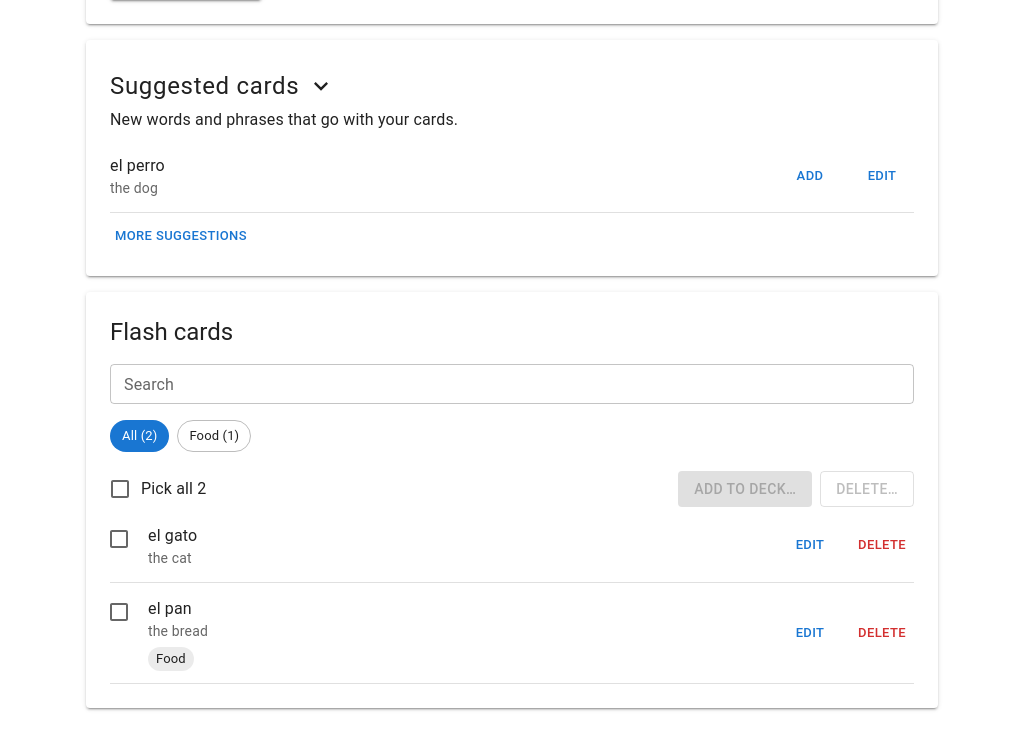
Test: suggested cards › for a tag › suggests cards for the picked tag and adds them with it
(page scrolled)
Expected: the list named "Suggested cards" is shown, [110,140,914,213]
Click the button "Food (1)" at (214, 436), box [177,420,251,452]
(page scrolled)
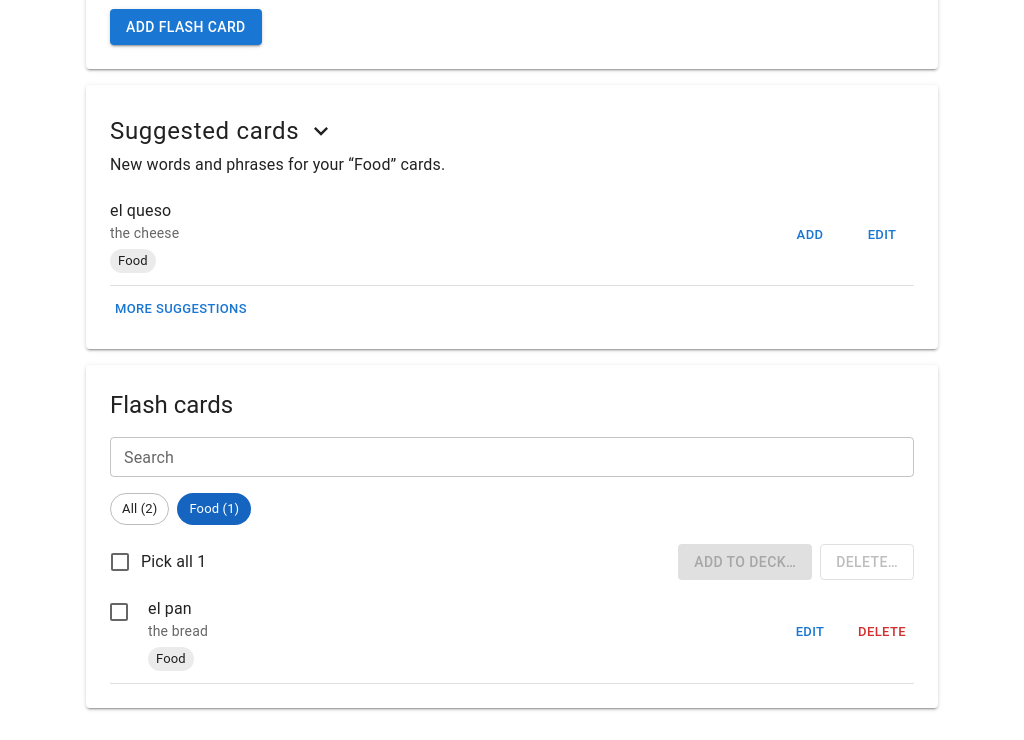
Result: the list named "Suggested cards" shows "el queso" at [110,201,171,220]
Result: the text "New words and phrases for your “Food” cards." is shown at [110,155,445,174]
Click the button named "Add \"el queso\"" at (810, 235), box [778,220,842,250]
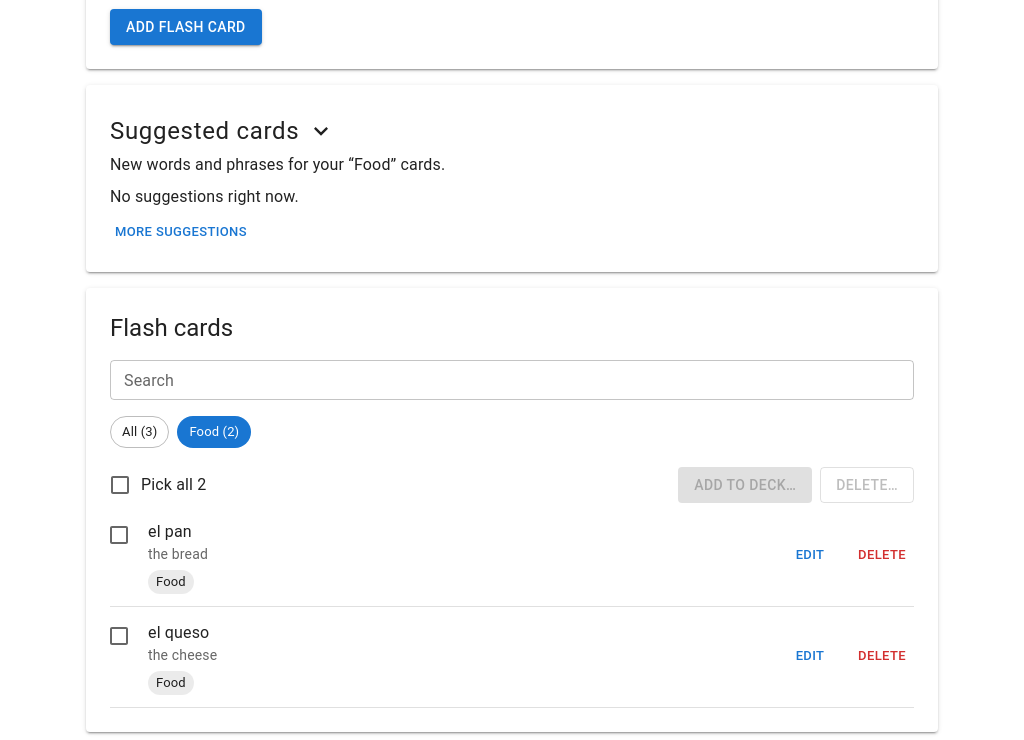
Result: the button named "Edit \"el queso\"" is shown at [778,642,842,672]
